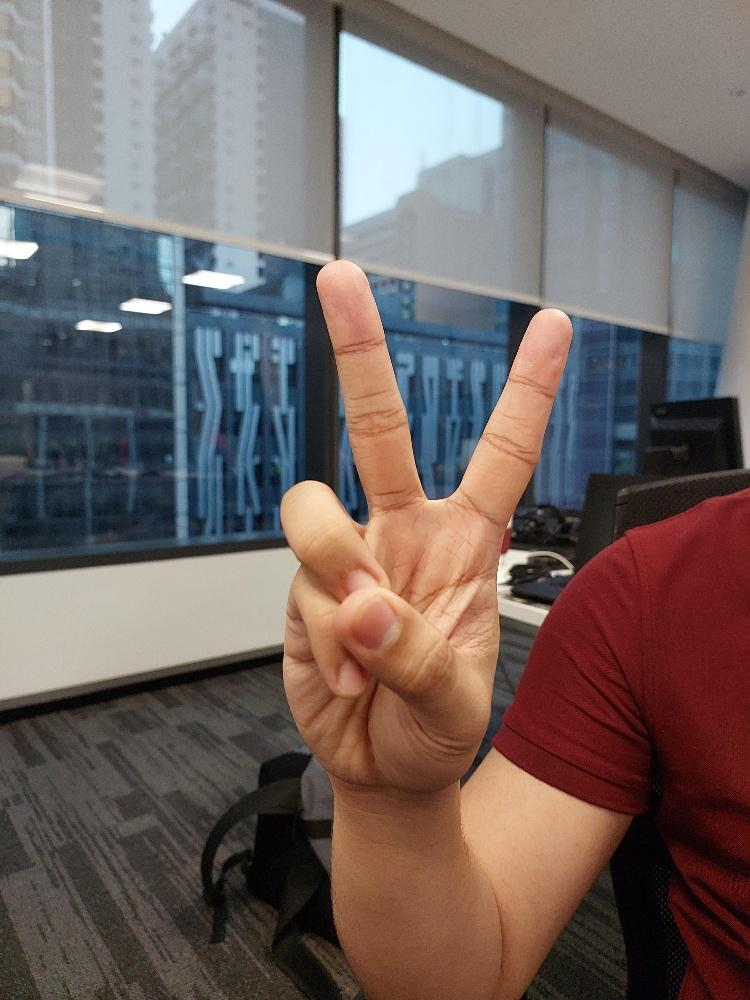v: (276, 254, 574, 788)
